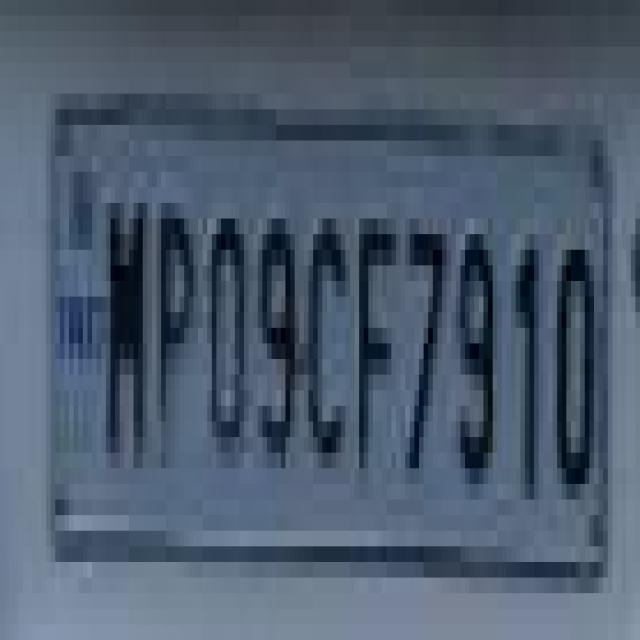license_plate: (28, 31, 636, 562)
